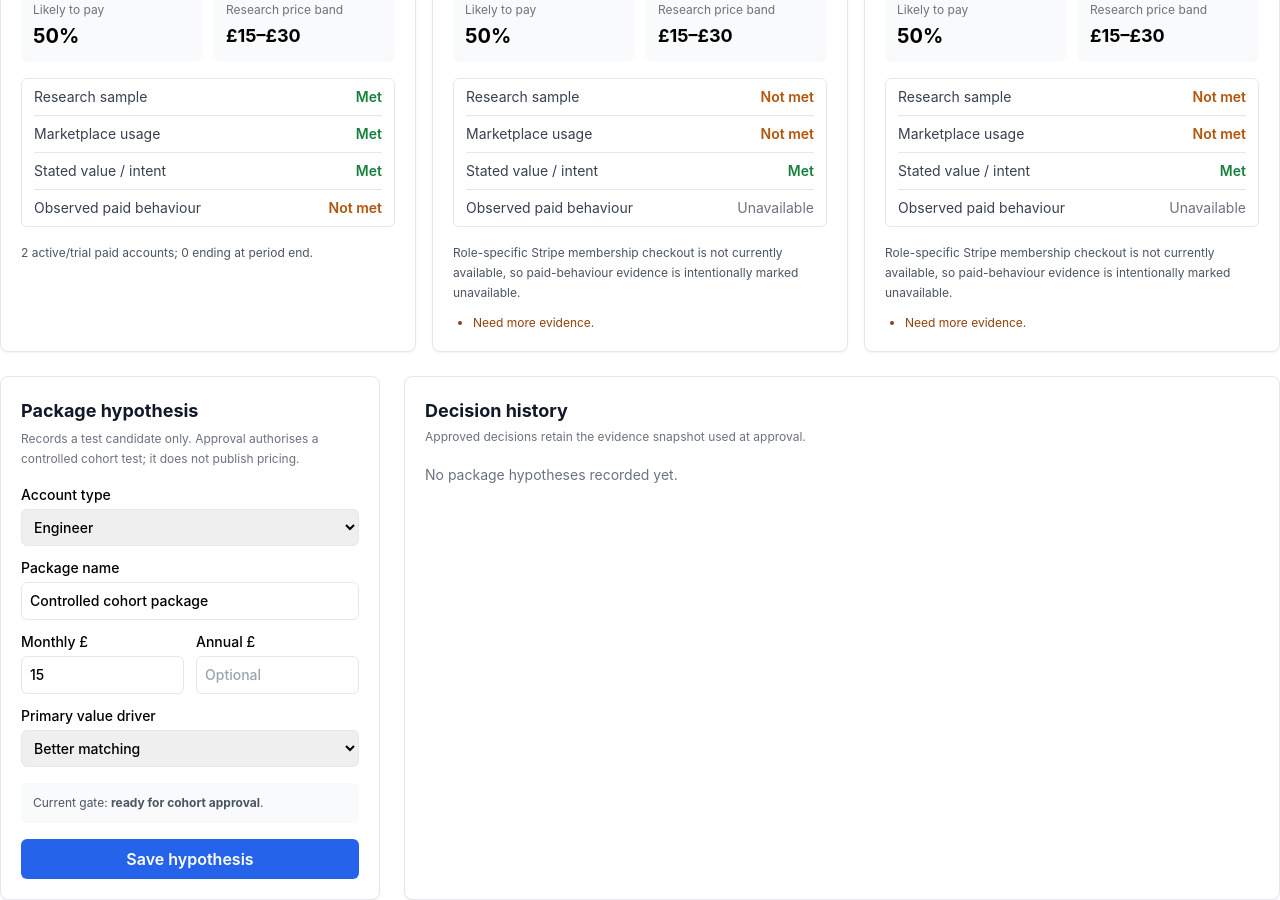
Test case: CommercialValidationView › records a package hypothesis without publishing pricing
(page scrolled)
Replace the text in the field labelled "Package name" with "Engineer pilot" at (190, 601), box left=21, top=582, right=359, bottom=620
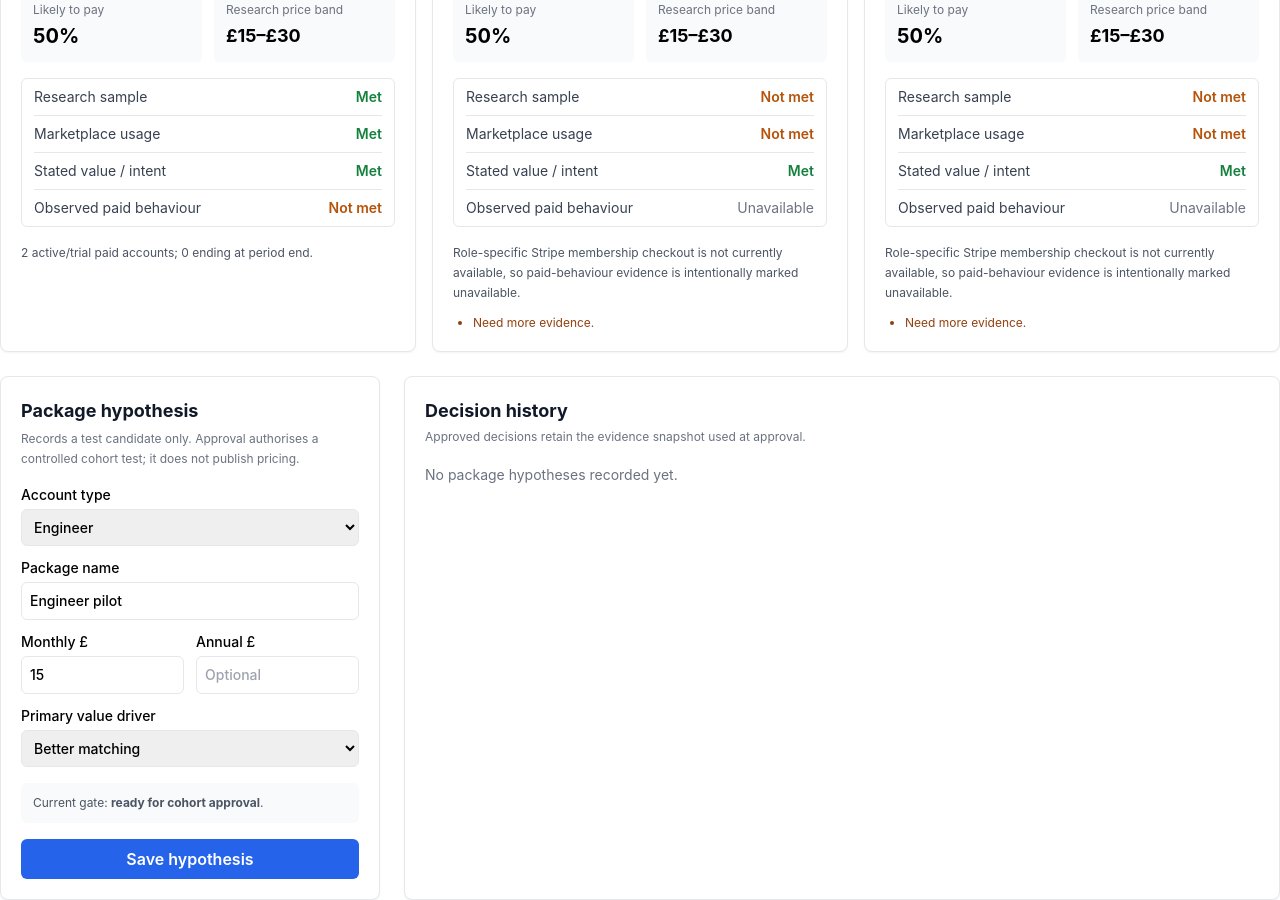
Click the button "Save hypothesis" at (190, 859), box left=21, top=839, right=359, bottom=879
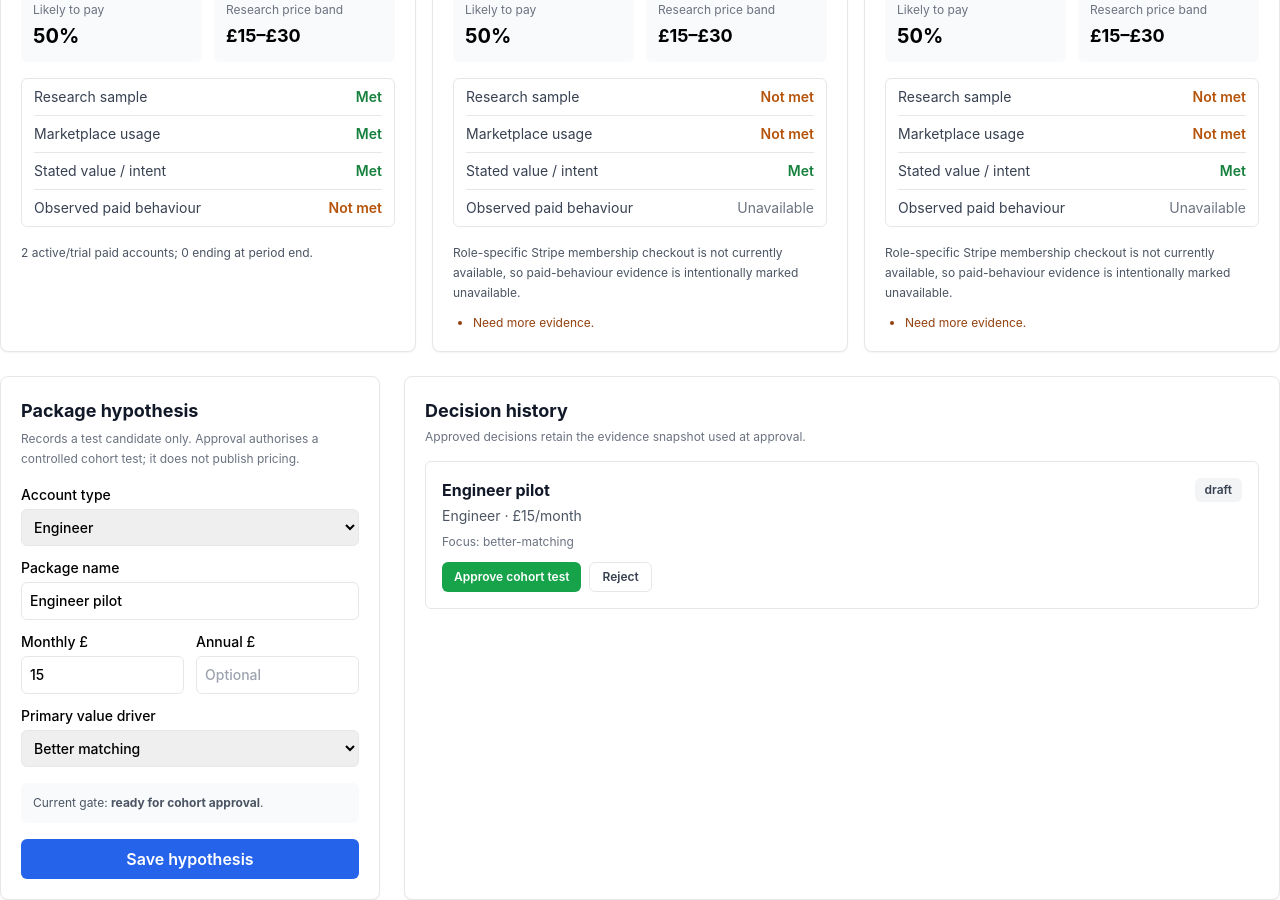
Now the heading "Engineer pilot" is shown, box left=442, top=480, right=550, bottom=500
